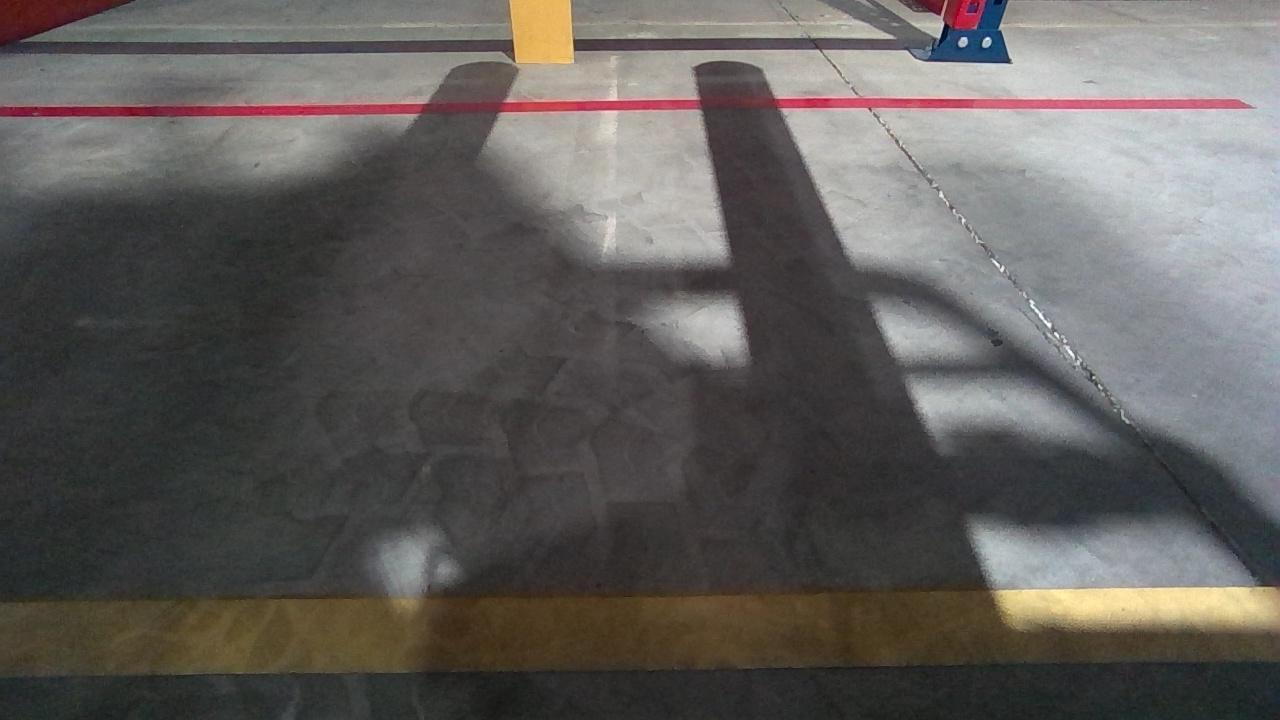red_line: (0, 95, 1244, 120)
yellow_line: (0, 594, 1280, 676)
